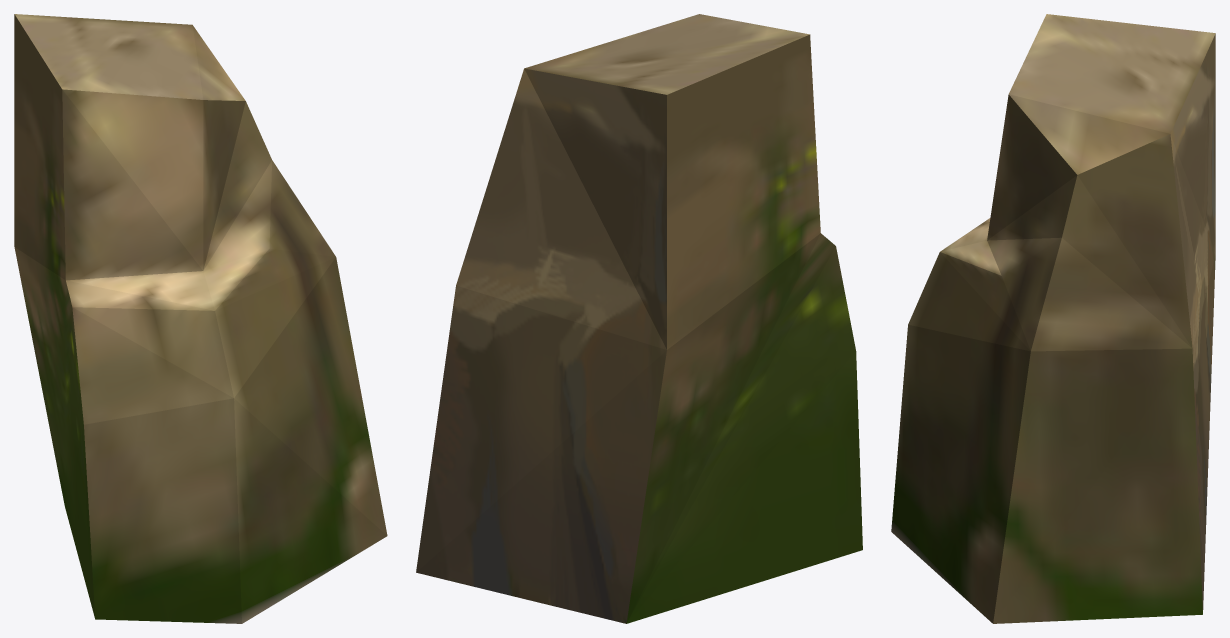
Rendered from shitou01.FBX.
3 views of the same model, side by side, from view 1: azimuth 30°, elevation 25°; view 2: azimuth 150°, elevation 25°; view 3: azimuth 270°, elevation 25° (orthographic). The views are drawn at different scales.
Visible parts, largest first — view 1: Object005; view 2: Object005, Object006; view 3: Object005, Object006.
Part boxes in pixels (x1=…): Object005: x1=14, y1=14, x2=387, y2=623; Object005: x1=524, y1=14, x2=862, y2=623; Object006: x1=416, y1=68, x2=666, y2=623; Object005: x1=891, y1=14, x2=1215, y2=623; Object006: x1=1170, y1=34, x2=1215, y2=610.
Bounding box in the file's own units: 47.51 × 73.66 × 45.84.
